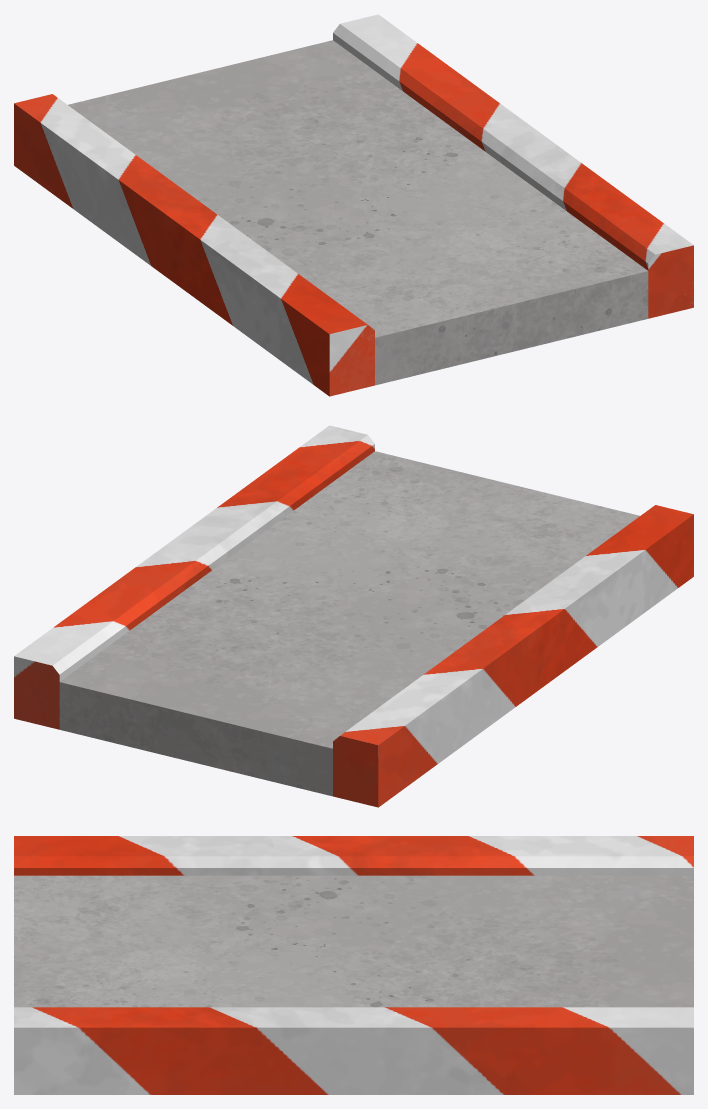
Rendered from straightTrack.fbx.
3 renders of one model, top to bottom at view 1: azimuth 30°, elevation 25°; view 2: azimuth 150°, elevation 25°; view 3: azimuth 270°, elevation 25°, orthographic. The views are drawn at different scales.
Visible parts, largest first — view 1: road, curb; view 2: road, curb; view 3: road, curb.
Part boxes in pixels (left/top/right/bottom): road: left=68, top=40, right=648, bottom=385; curb: left=14, top=14, right=693, bottom=396; road: left=59, top=451, right=639, bottom=796; curb: left=14, top=425, right=693, bottom=807; road: left=14, top=875, right=693, bottom=1007; curb: left=14, top=836, right=693, bottom=1094.
Bounding box in the file's own units: 4 × 0.6537 × 6.
